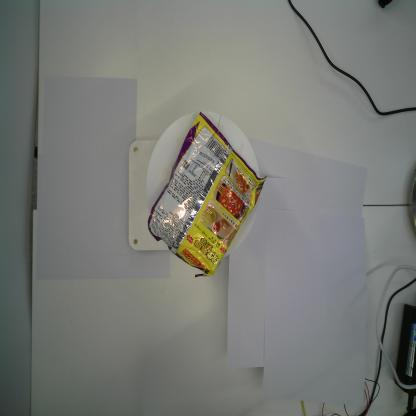Instant Noodles: (146, 110, 268, 279)
